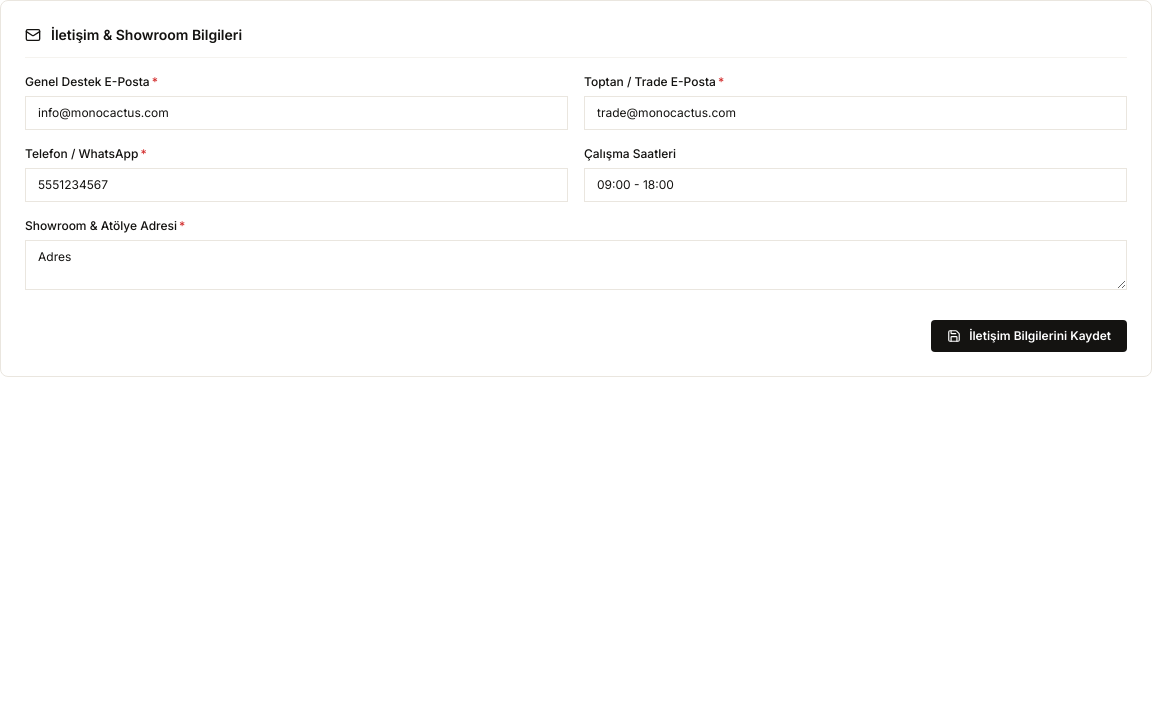
Admin Settings Tab Components (Phase 3.10) › AdminContactSettingsTab › handles contact repository rejection
Click the button "İletişim Bilgilerini Kaydet": (1029, 336) top-left (931, 320), bottom-right (1127, 352)
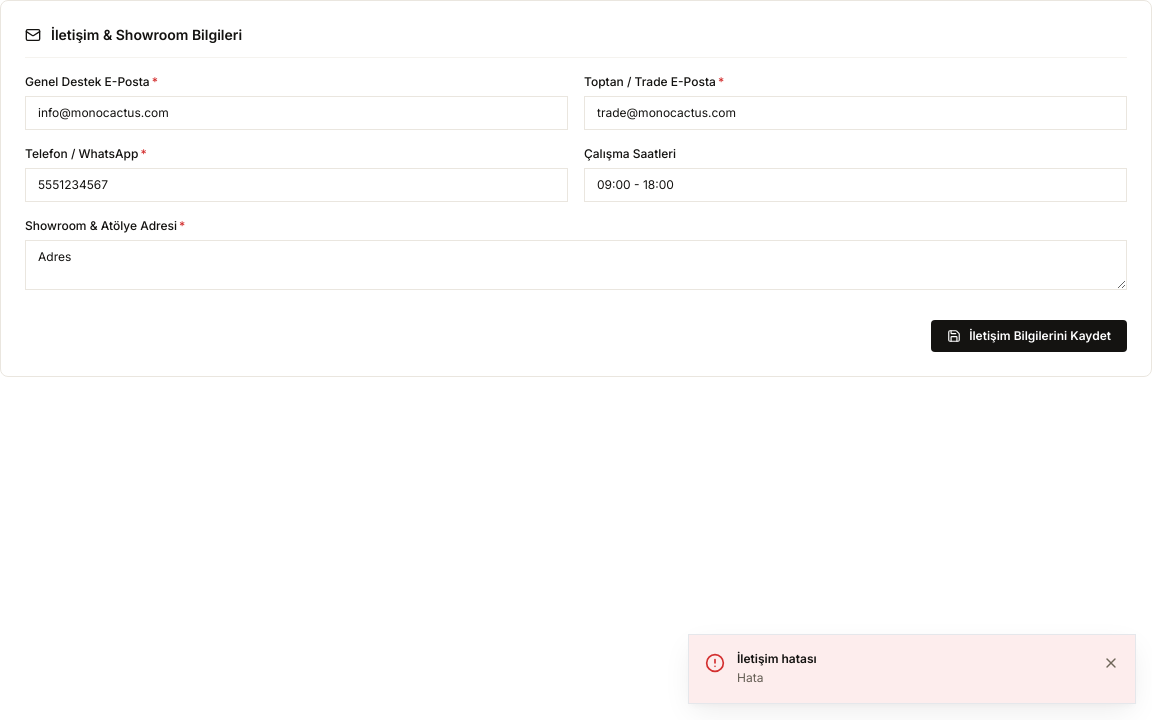
Expected: the heading "İletişim hatası" is shown, top-left (737, 650), bottom-right (817, 666)
